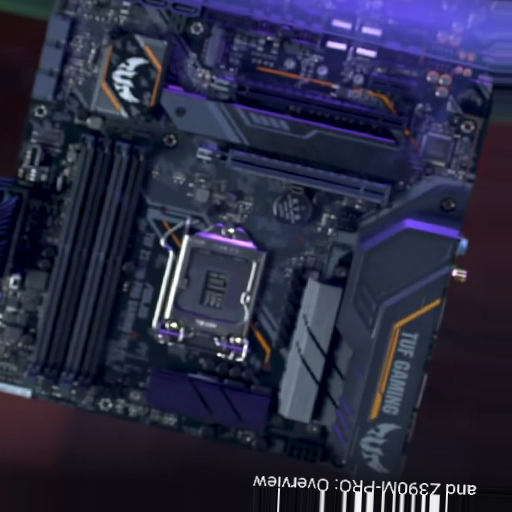CPU: (155, 222, 269, 361)
GPU: (206, 73, 409, 136), (195, 142, 390, 205)
MOTHERBOARD: (2, 1, 496, 469)
RAM: (27, 135, 149, 391)
SSD: (203, 23, 227, 68)
